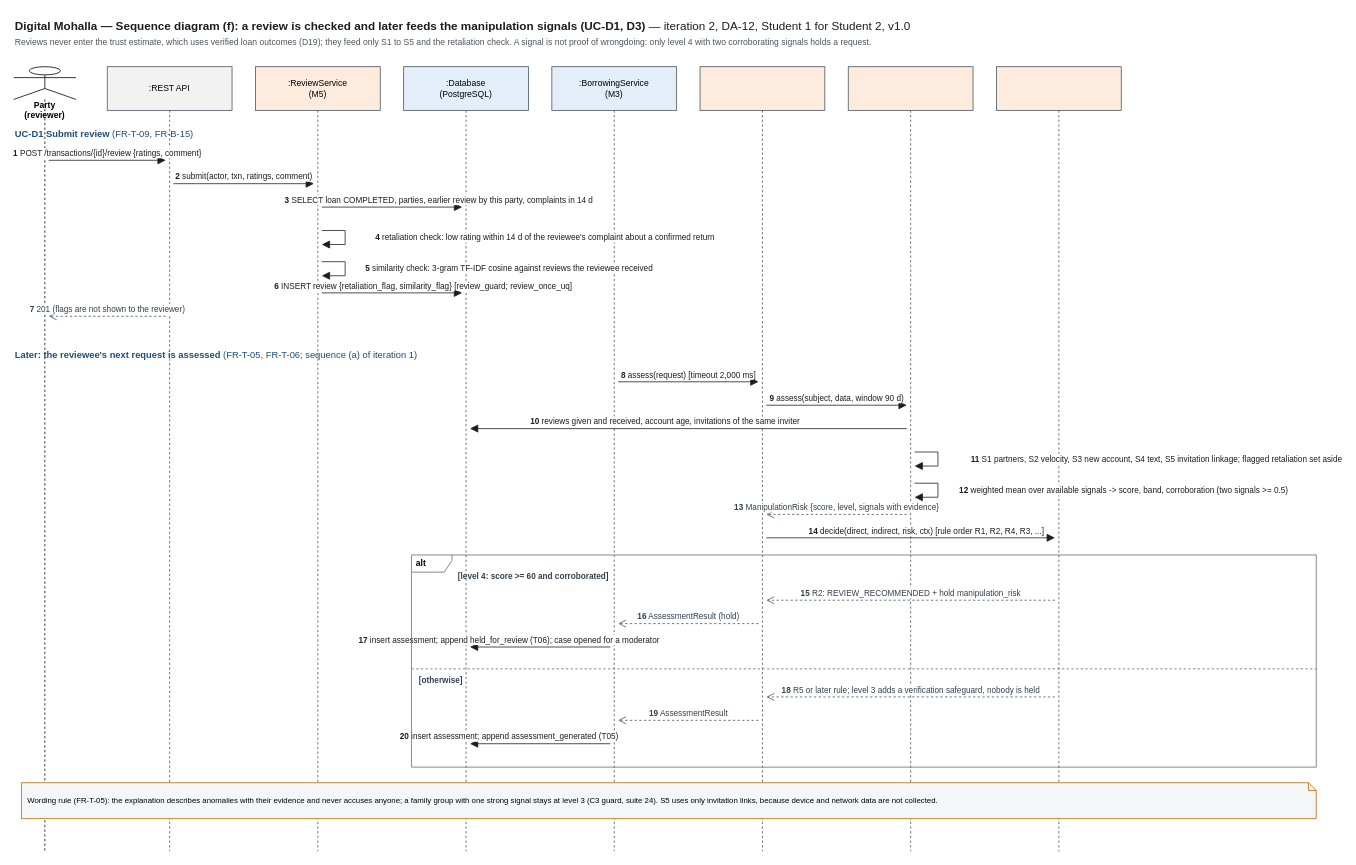
The diagram is 1356 pixels wide and 865 high, and some of its shapes have lost their labels. Each missing label, with the box of its shape:
:AssuranceFacade (M5): (699, 66, 825, 851)
:DecisionPolicy (M5): (996, 66, 1121, 851)
:ManipulationDetector (M5): (847, 66, 973, 851)
